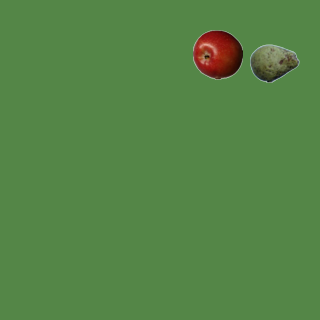Apple Braeburn: (192, 29, 242, 79)
Pear Stone: (249, 38, 299, 88)
